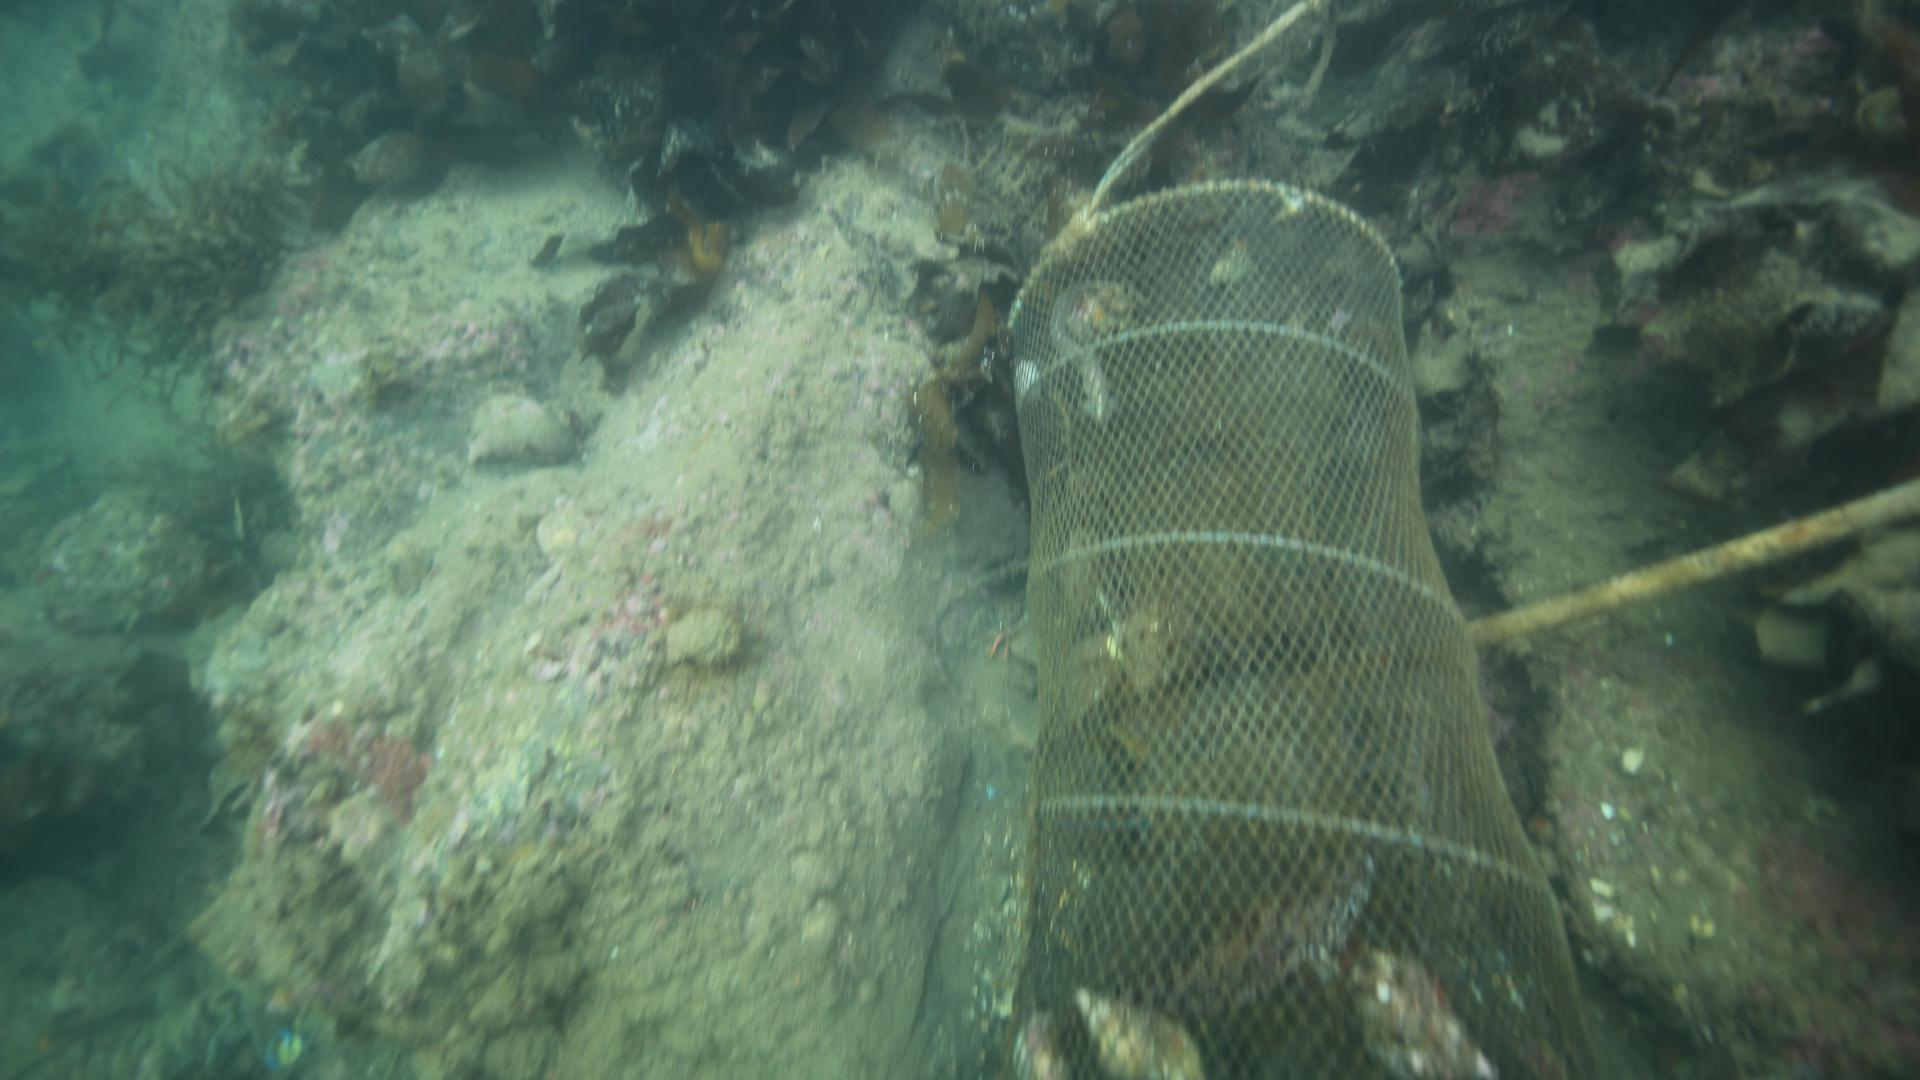bundle of ropes: (1064, 0, 1321, 227)
rope: (1460, 480, 1920, 653)
spring fish trap: (1001, 178, 1606, 1080)
